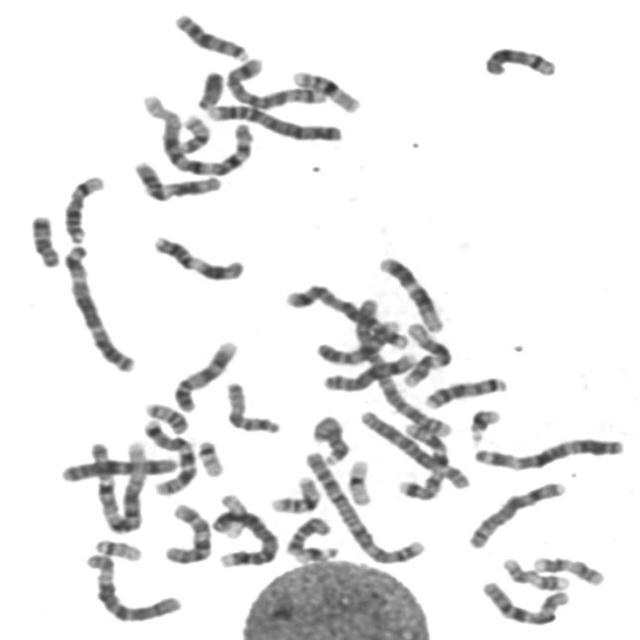A1: (136, 87, 256, 178), (87, 435, 150, 534)
A2: (347, 290, 454, 441), (298, 446, 428, 566)
A3: (56, 237, 138, 374), (466, 430, 627, 472)
B4: (200, 98, 344, 144), (206, 504, 282, 569)
B5: (278, 277, 412, 351), (219, 53, 329, 110)
C10: (475, 574, 573, 628), (157, 497, 214, 565)
C11: (145, 229, 247, 282), (128, 155, 225, 202)
C12: (372, 250, 447, 334), (396, 317, 454, 388)
C6: (355, 404, 474, 491), (78, 547, 186, 625)
C7: (137, 413, 200, 497), (391, 417, 450, 502)
C8: (461, 475, 570, 550), (316, 347, 419, 394)
C9: (167, 335, 241, 414), (309, 313, 405, 366)
D13: (168, 7, 252, 63), (418, 370, 510, 410)
D14: (58, 170, 108, 246), (477, 40, 560, 79)
D15: (218, 376, 284, 436), (296, 410, 358, 468)
E16: (286, 64, 364, 114), (264, 471, 323, 514)
E17: (495, 552, 573, 592), (526, 550, 608, 588)
E18: (280, 511, 333, 557), (24, 208, 62, 269)
F19: (212, 487, 250, 540), (342, 453, 375, 507)
F20: (138, 397, 191, 436), (168, 109, 213, 154)
G21: (462, 402, 504, 444), (288, 540, 341, 564)
G22: (89, 533, 144, 563), (191, 434, 226, 477)
X: (55, 451, 179, 483)
Y: (190, 64, 226, 110)
